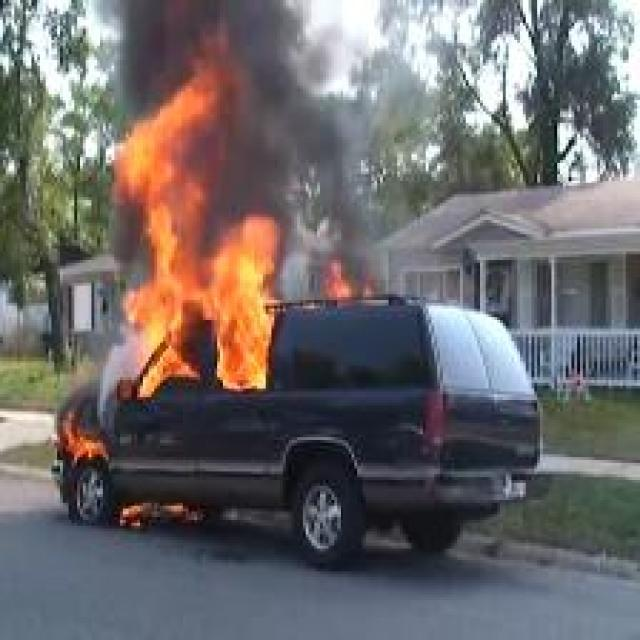Fire: (117, 17, 277, 400), (53, 410, 110, 464), (327, 254, 353, 300)
